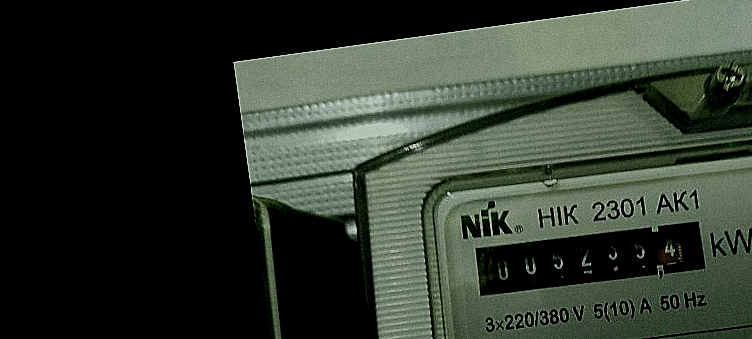0: (494, 255, 513, 283), (522, 250, 540, 277)
2: (577, 241, 594, 268)
3: (604, 236, 621, 262)
4: (661, 232, 680, 259)
5: (631, 233, 650, 262), (549, 245, 567, 273)
screen: (464, 207, 719, 309)
